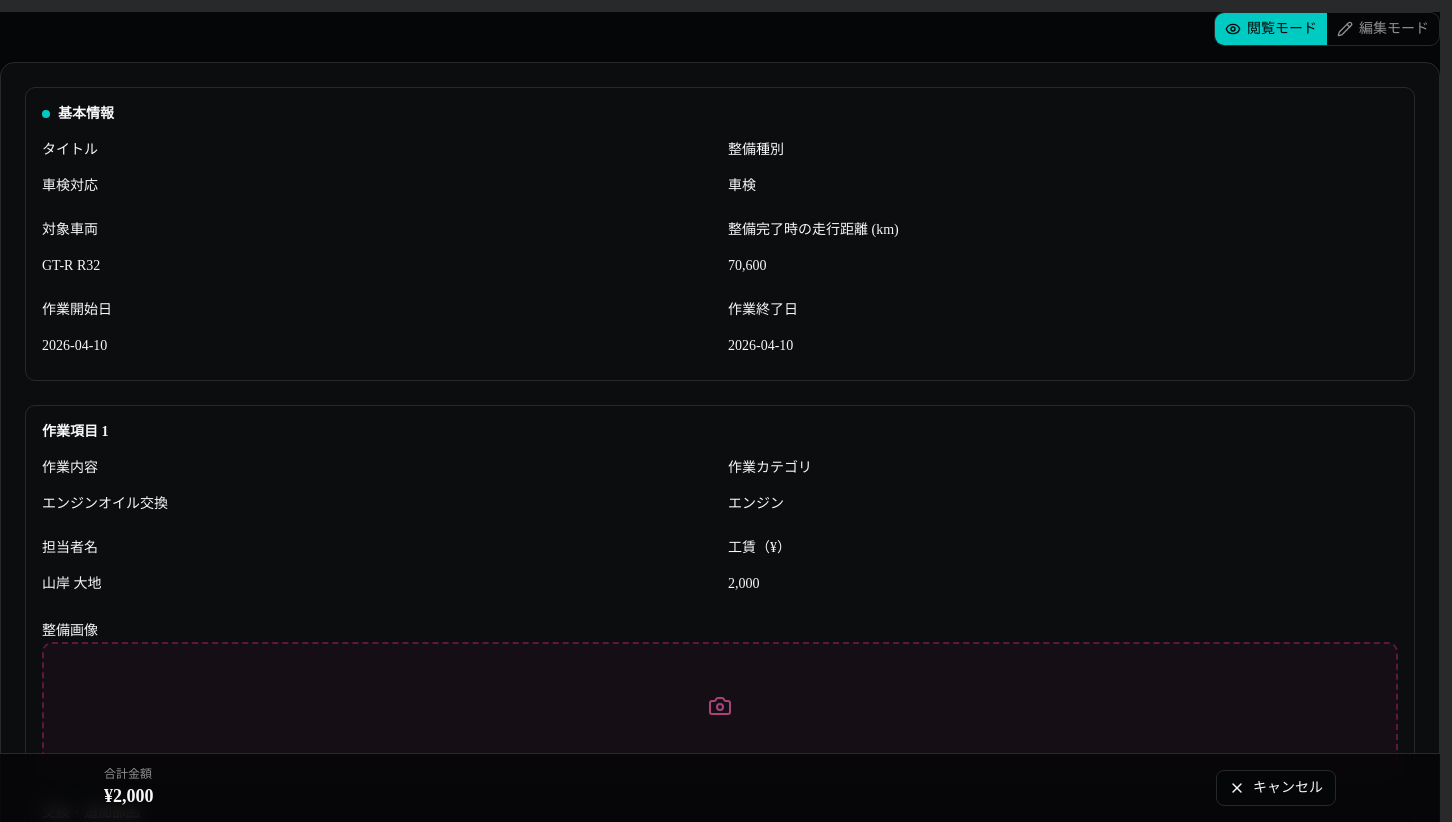
Test: MaintenanceRecordDetailContent › canEdit=trueの場合、編集モードへ切り替えると入力欄と削除・保存ボタンが表示される
Click the button "編集モード": (1383, 29) [1327,13,1439,45]
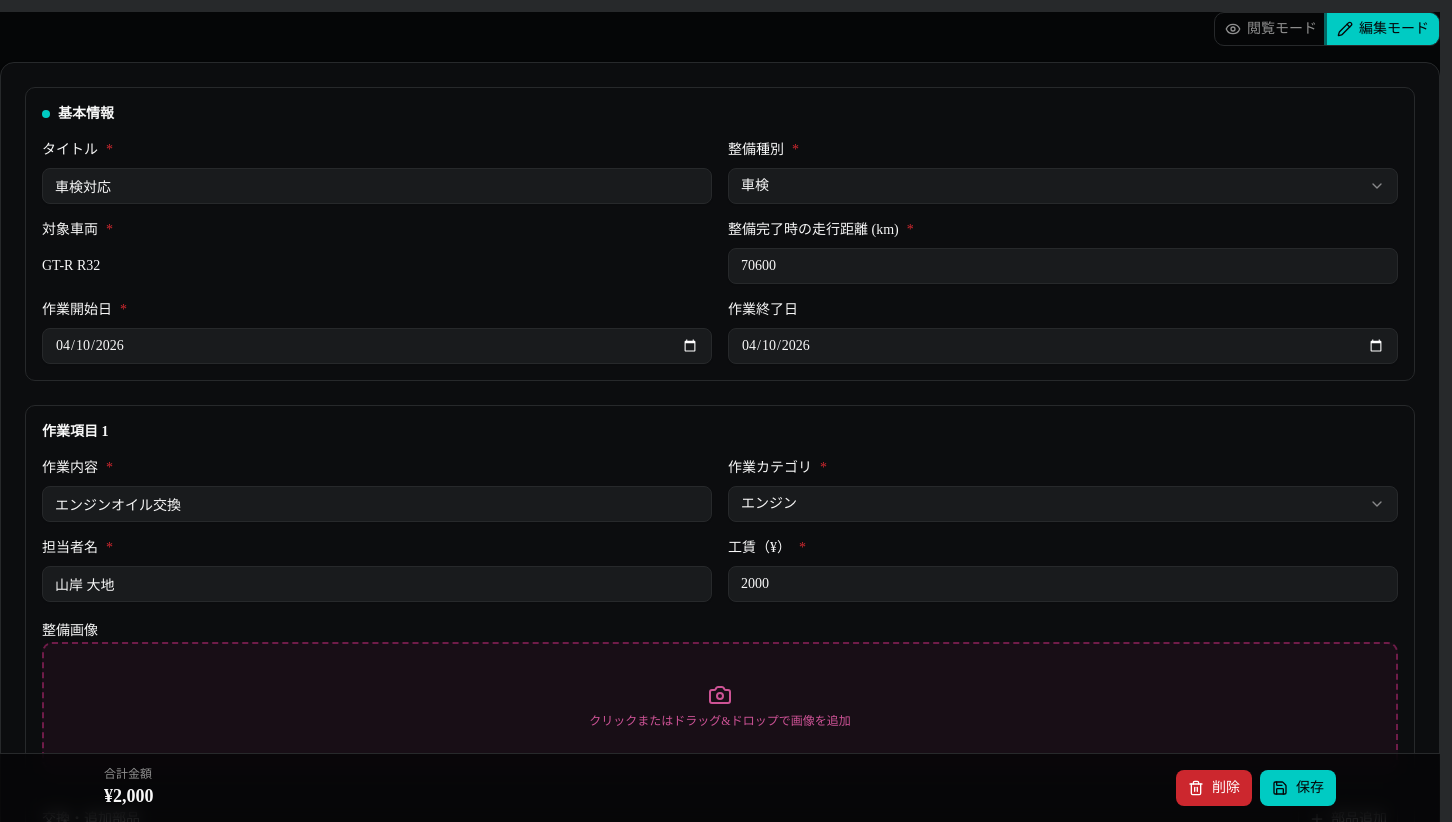
Result: the field with placeholder "例：車検対応、オイル交換" holds "車検対応" at [42,168,712,204]
Result: the button "削除" is shown at [1176,770,1252,806]
Result: the button "保存" is shown at [1260,770,1336,806]
